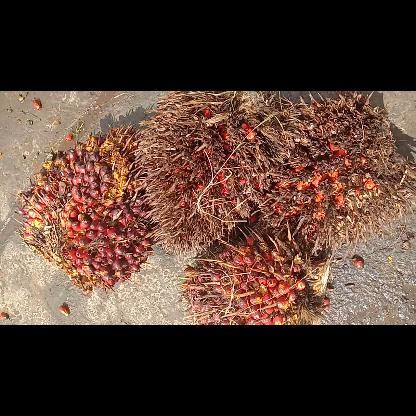TBS masak: (14, 124, 158, 292), (178, 226, 328, 324)
Terlalu masak: (131, 91, 293, 253), (260, 91, 414, 261)
